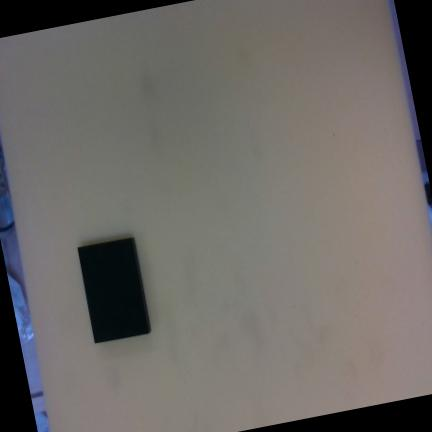tile: (77, 237, 150, 343)
